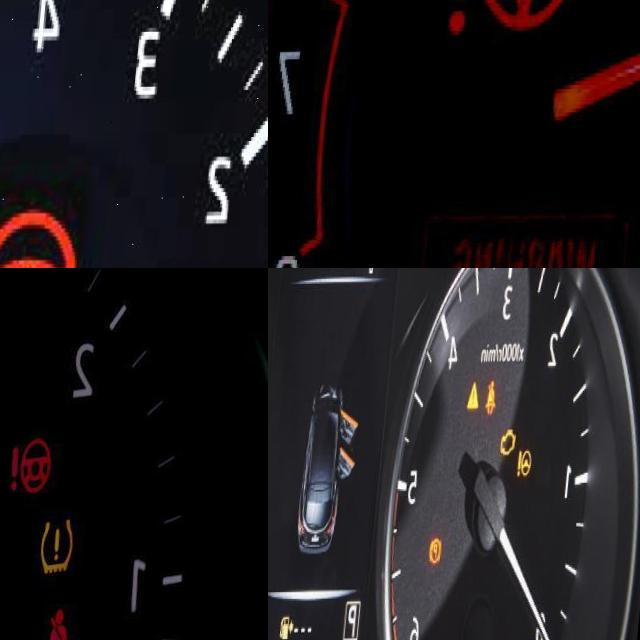Electronic Power Steering: (452, 0, 586, 36), (10, 438, 66, 504), (517, 450, 537, 481)
Electronic Power Steering Warning: (0, 207, 90, 268)
Seat Belt: (50, 603, 92, 640), (486, 381, 504, 417)
